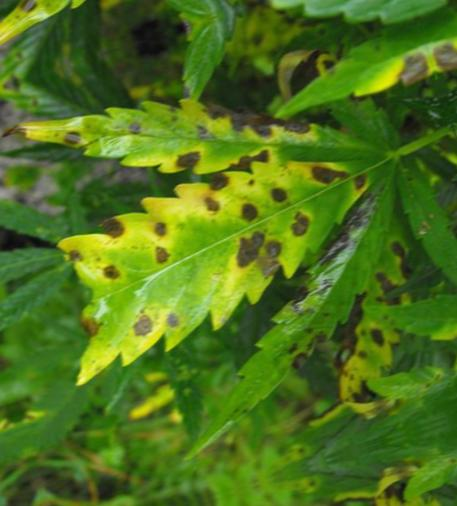Tomato leaf bacterial spot: (27, 129, 410, 397), (17, 17, 366, 260), (253, 1, 444, 152), (355, 252, 457, 387)
